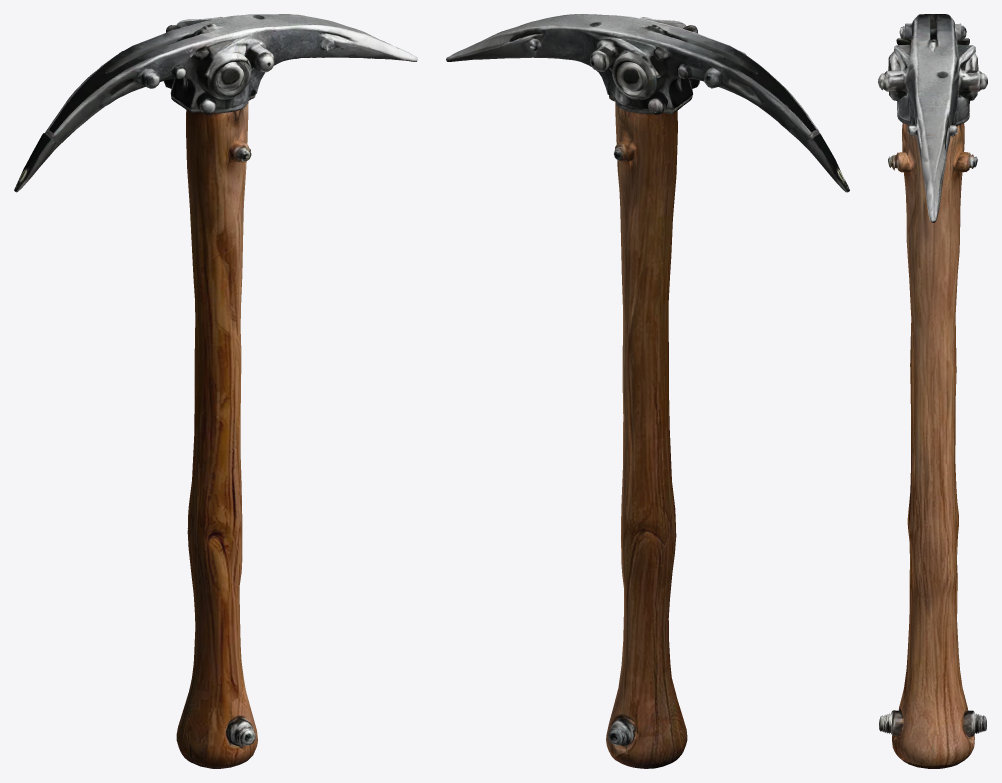
Rendered from ice-axe.glb.
The picture shows the model from 3 angles, left to right: view 1: azimuth 30°, elevation 25°; view 2: azimuth 150°, elevation 25°; view 3: azimuth 270°, elevation 25°; orthographic projection. The views are drawn at different scales.
Visible parts, largest first — view 1: node_dfc11d61-203b-4735-845e-c9a1bfb6927e; view 2: node_dfc11d61-203b-4735-845e-c9a1bfb6927e; view 3: node_dfc11d61-203b-4735-845e-c9a1bfb6927e.
Part boxes in pixels (x1,y1,x2,y2): node_dfc11d61-203b-4735-845e-c9a1bfb6927e: (14, 14, 417, 768); node_dfc11d61-203b-4735-845e-c9a1bfb6927e: (446, 14, 849, 768); node_dfc11d61-203b-4735-845e-c9a1bfb6927e: (878, 14, 987, 768).
Bounding box in the file's own units: 0.5649 × 0.9815 × 0.137.
1 material, 1 textured.
